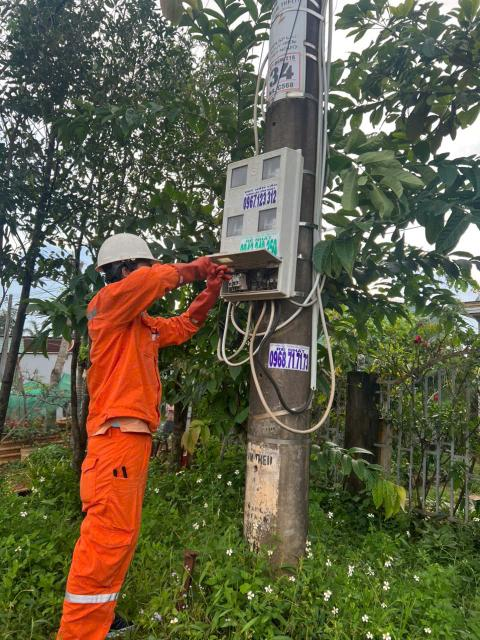gloves: (172, 260, 231, 329), (161, 249, 220, 290)
helmet: (85, 226, 170, 278)
